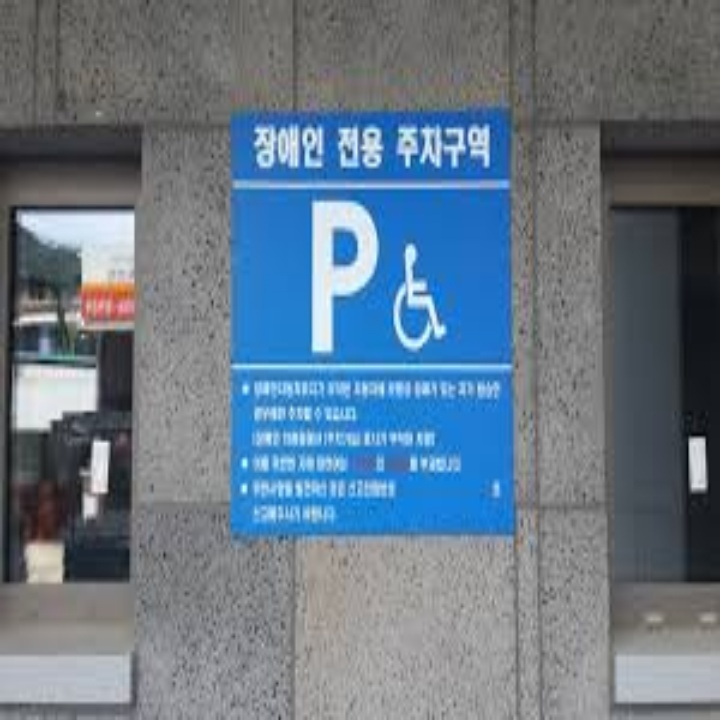parking: (307, 192, 382, 356)
